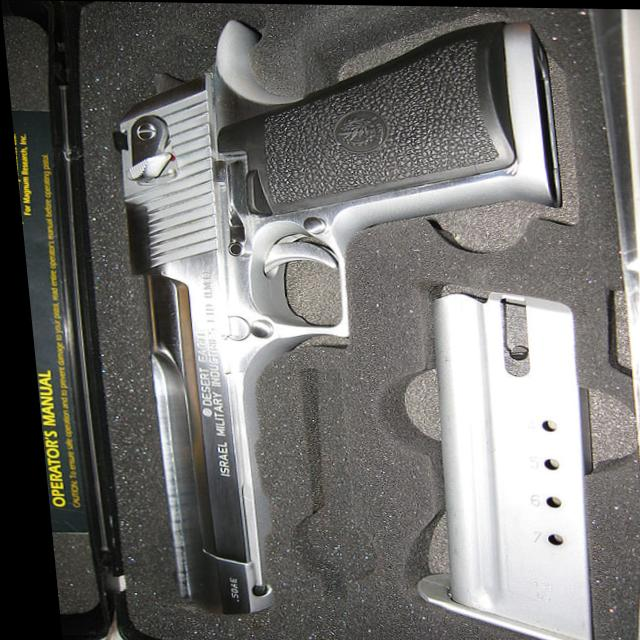handgun: (76, 9, 635, 629)
